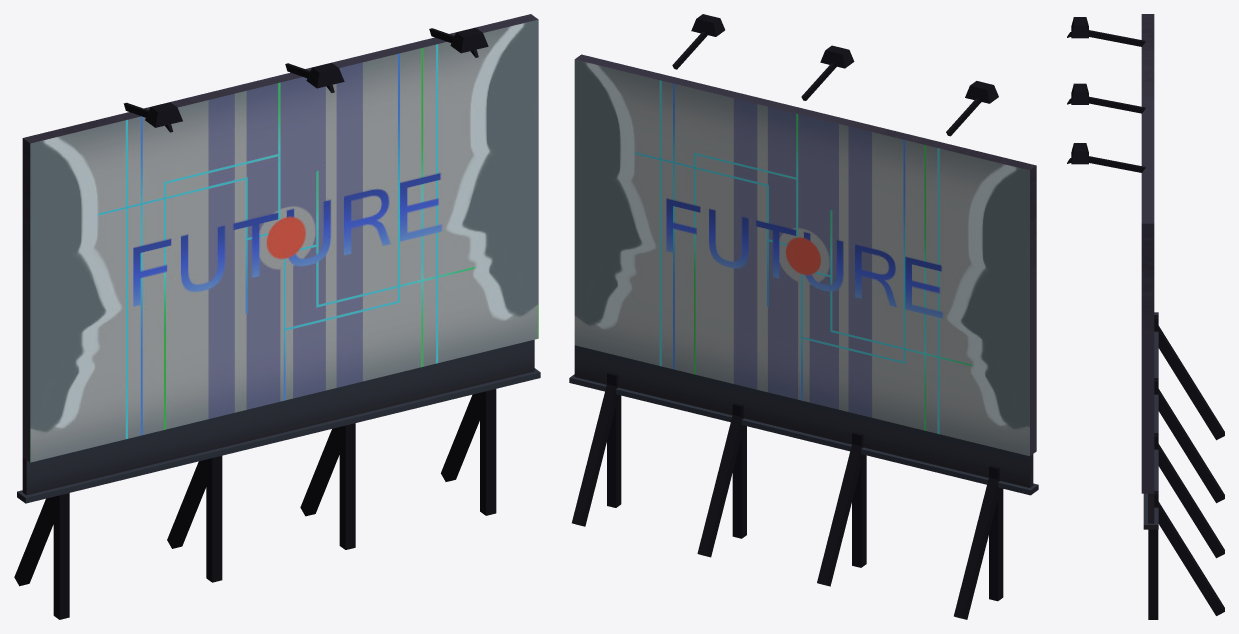
Rendered from bilbord ns zdanie.FBX.
The picture shows the model from 3 angles, left to right: view 1: azimuth 30°, elevation 25°; view 2: azimuth 150°, elevation 25°; view 3: azimuth 270°, elevation 25°; orthographic projection. The views are drawn at different scales.
Parts seen in each view (by area): view 1: Box001, Box006, Box008, Box009, Box007, Box004, Box005, Box002, Box003; view 2: Box001, Box005, Box004, Box003, Box002, Box006, Box008, Box009, Box007; view 3: Box001, Box002, Box003, Box004, Box005, Box006, Box010, Box013, Box015, Box012, Box014, Box011.
Part boxes in pixels (bbox=[...]): Box001: bbox=[17, 14, 540, 503]; Box006: bbox=[480, 389, 496, 515]; Box008: bbox=[53, 493, 69, 619]; Box009: bbox=[206, 456, 222, 582]; Box007: bbox=[339, 423, 355, 549]; Box004: bbox=[167, 459, 208, 548]; Box005: bbox=[300, 426, 341, 516]; Box002: bbox=[14, 496, 55, 586]; Box003: bbox=[441, 392, 481, 481]; Box001: bbox=[569, 54, 1038, 495]; Box005: bbox=[697, 414, 744, 557]; Box004: bbox=[817, 444, 863, 586]; Box003: bbox=[572, 384, 618, 526]; Box002: bbox=[954, 477, 1000, 619]; Box006: bbox=[607, 372, 621, 507]; Box008: bbox=[989, 465, 1003, 601]; Box009: bbox=[852, 432, 866, 567]; Box007: bbox=[732, 403, 746, 538]; Box001: bbox=[1141, 14, 1158, 529]; Box002: bbox=[1154, 325, 1224, 440]; Box003: bbox=[1154, 501, 1224, 615]; Box004: bbox=[1154, 388, 1224, 503]; Box005: bbox=[1154, 443, 1224, 558]; Box006: bbox=[1148, 491, 1158, 619]; Box010: bbox=[1067, 96, 1145, 113]; Box013: bbox=[1067, 30, 1145, 46]; Box015: bbox=[1067, 156, 1145, 172]; Box012: bbox=[1071, 17, 1088, 38]; Box014: bbox=[1071, 143, 1088, 164]; Box011: bbox=[1071, 83, 1088, 104].
Bounding box in the file's own units: 152 × 149 × 47.72.
Materials: 2 (1 with a texture image).
